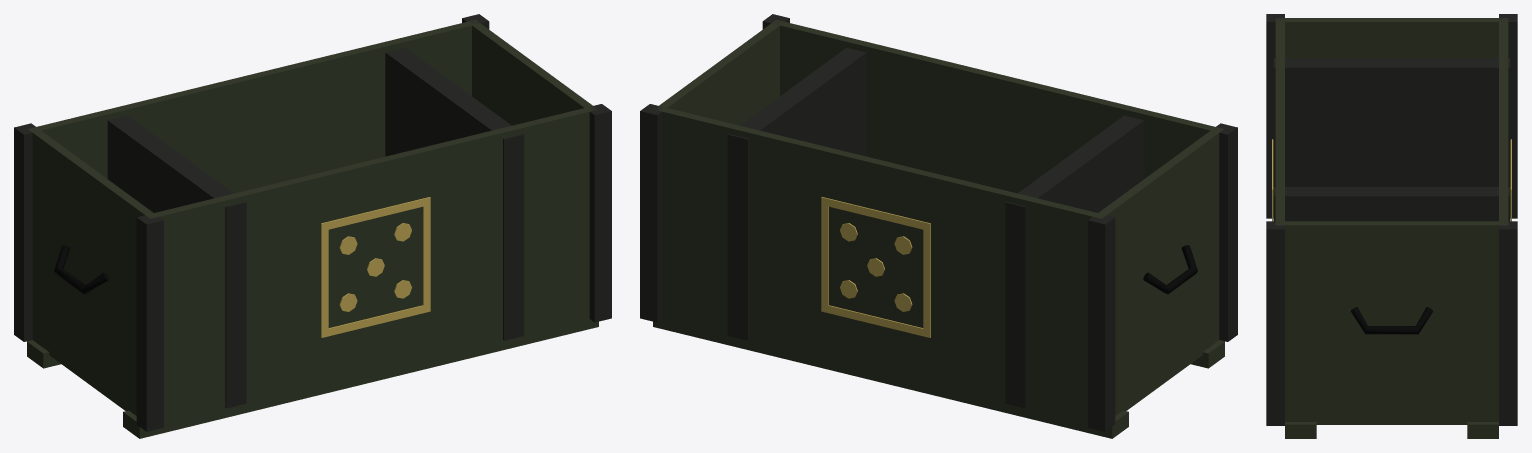
The model's file is mystery_crate.gltf.
3 views of the same model, side by side, from view 1: azimuth 30°, elevation 25°; view 2: azimuth 150°, elevation 25°; view 3: azimuth 270°, elevation 25° (orthographic). The views are drawn at different scales.
Visible parts, largest first — view 1: mystery_crate; view 2: mystery_crate; view 3: mystery_crate.
Boxes of the visible parts, box(x1,y1,x2,y2) form: mystery_crate: box(14, 14, 611, 438); mystery_crate: box(640, 14, 1237, 438); mystery_crate: box(1266, 14, 1517, 438).
Size of the model in its own units: 1.71 by 0.74 by 0.8.
